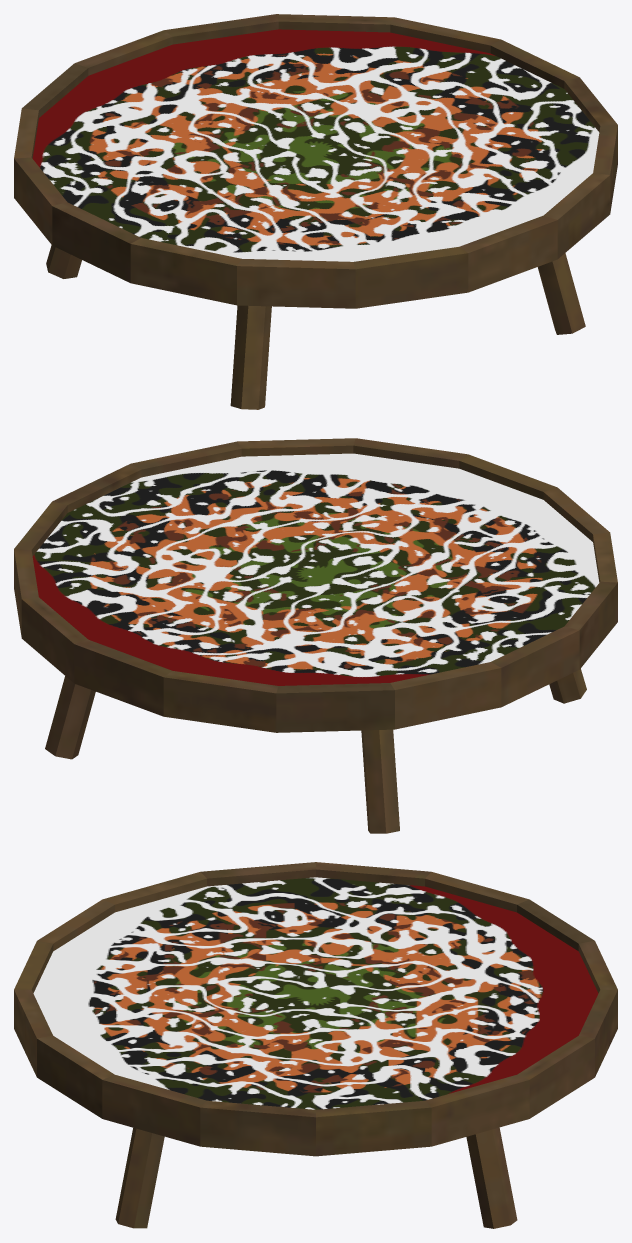
The model's file is MapTable.fbx.
3 views of the same model, one above another, from view 1: azimuth 30°, elevation 25°; view 2: azimuth 150°, elevation 25°; view 3: azimuth 270°, elevation 25° (orthographic).
Parts seen in each view (by area): view 1: MapTable; view 2: MapTable; view 3: MapTable.
Part boxes in pixels (x1=…): MapTable: x1=14, y1=14, x2=617, y2=409; MapTable: x1=14, y1=438, x2=617, y2=833; MapTable: x1=14, y1=862, x2=617, y2=1228.
Size of the model in its own units: 350 by 102 by 350.
Materials: 2 (2 with a texture image).
